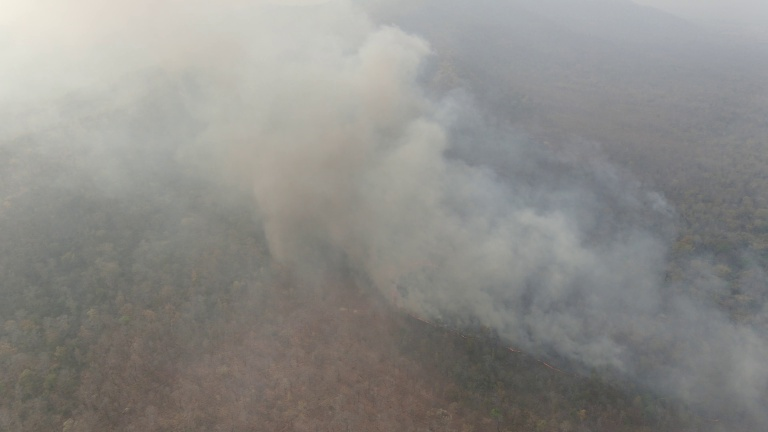fire: (506, 339, 569, 375), (403, 306, 466, 335)
smoke: (175, 6, 551, 342), (528, 215, 762, 409)
